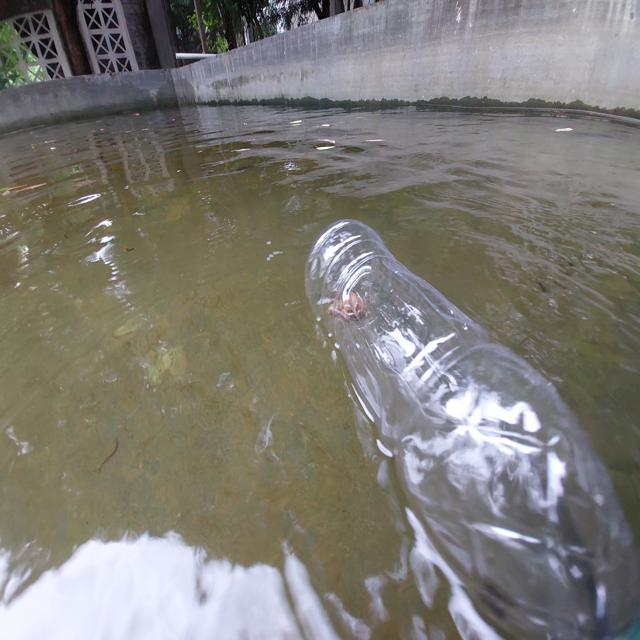waterbottle: (282, 216, 640, 640)
